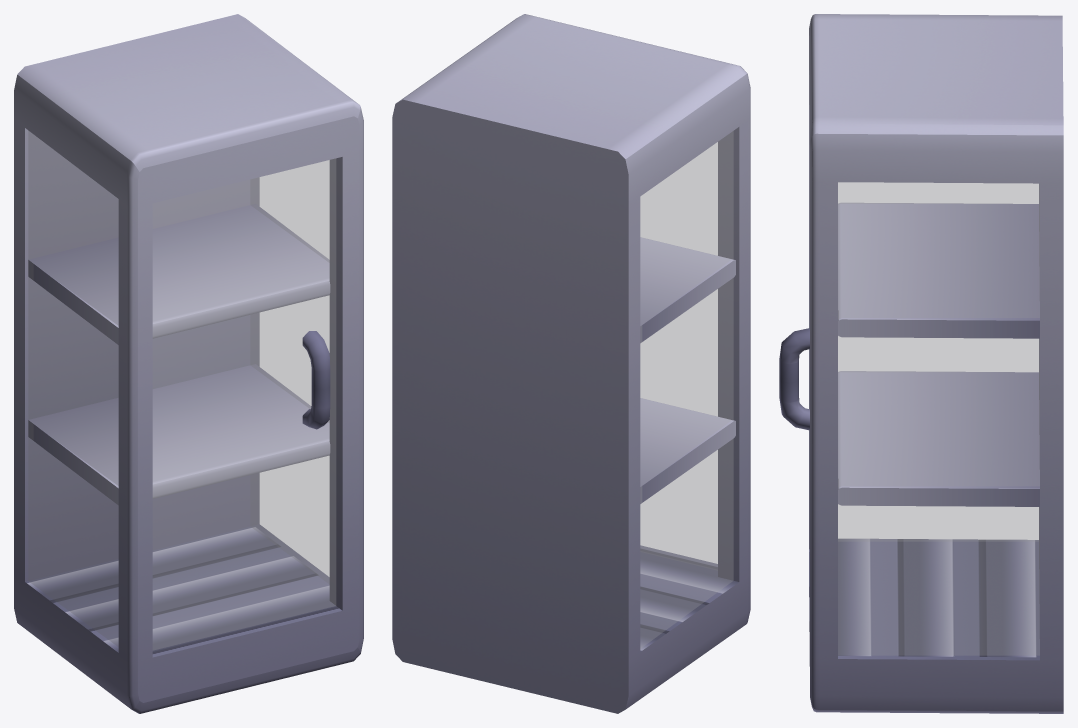
Rendered from asset_glassFridge1 1.fbx.
The picture shows the model from 3 angles, left to right: view 1: azimuth 30°, elevation 25°; view 2: azimuth 150°, elevation 25°; view 3: azimuth 270°, elevation 25°; orthographic projection. The views are drawn at different scales.
Parts seen in each view (by area): view 1: asset_glassFridge1; view 2: asset_glassFridge1; view 3: asset_glassFridge1.
Part boxes in pixels (bbox=[...]): asset_glassFridge1: bbox=[14, 14, 363, 713]; asset_glassFridge1: bbox=[392, 14, 750, 713]; asset_glassFridge1: bbox=[779, 14, 1063, 713].
Size of the model in its own units: 72.67 by 163 by 71.47.
2 materials, 1 textured.
